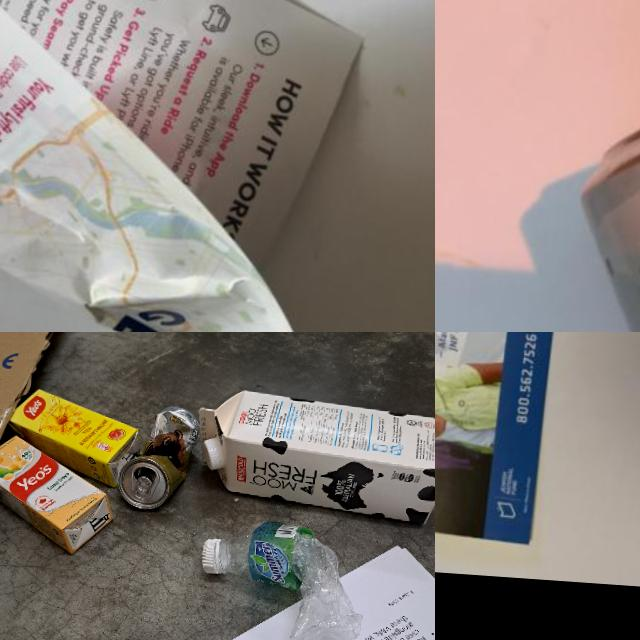aba de lata: (134, 475, 152, 501)
caixinha: (192, 386, 435, 528), (0, 433, 119, 555), (7, 385, 144, 487)
garrafa plástica: (217, 519, 368, 640)
lata: (568, 62, 640, 332), (117, 402, 201, 512)
papel: (0, 0, 372, 332), (99, 529, 435, 640), (435, 332, 581, 548)
papelão: (0, 332, 77, 529)
tampa plástica: (200, 538, 222, 574), (200, 440, 222, 470)
